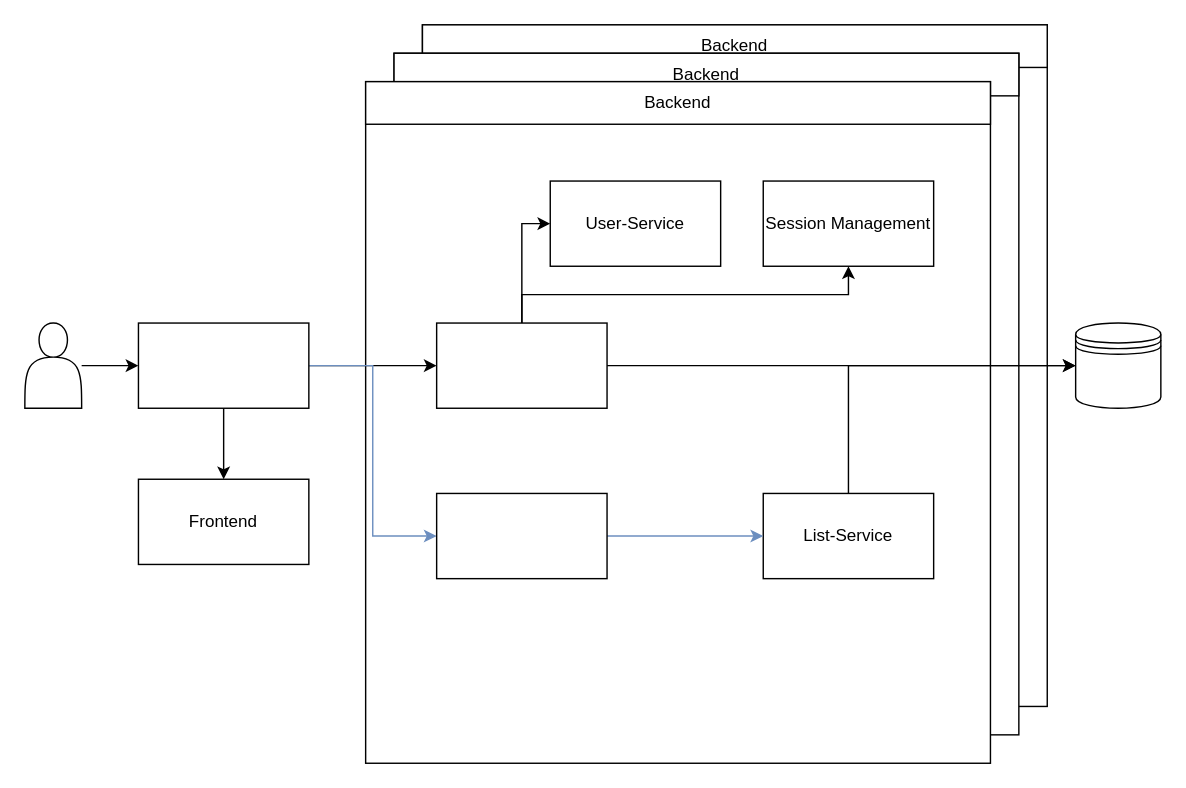
This 1186x788 diagram has some shape labels left out. The shapes that lost their labels are listed below. From the top down, each one's centre as x and y in pixels, then its label:
At (223,365): "Load Balancer".
At (521,365): "Server".
At (521,535): "Kafka".
